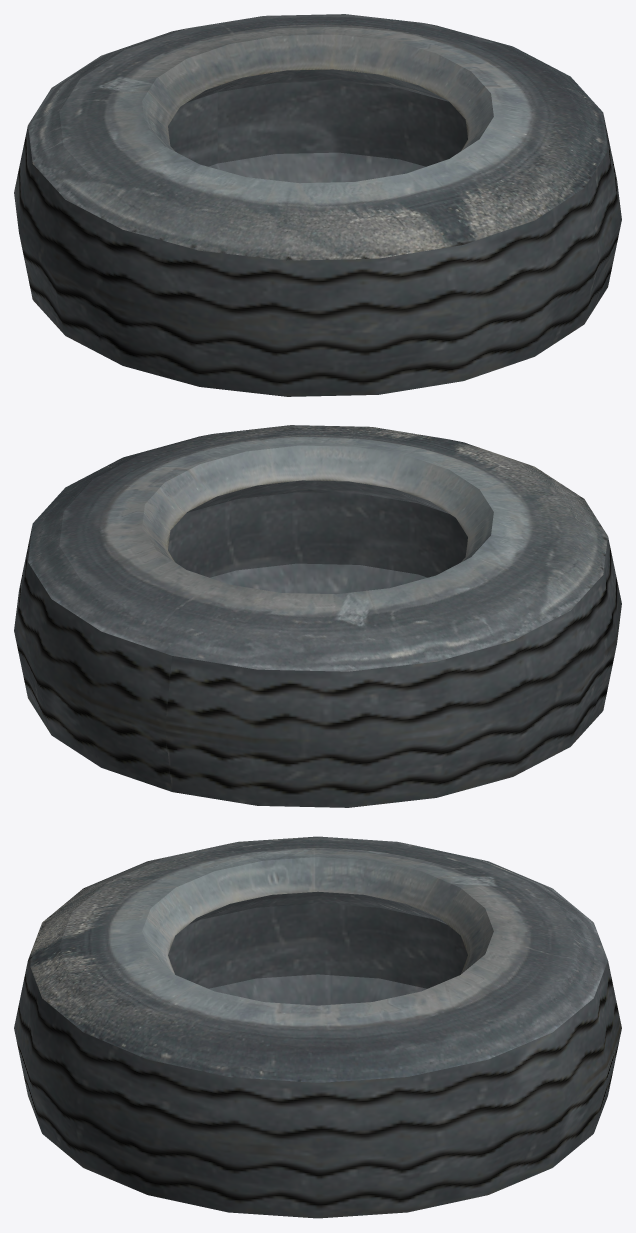
The model's file is tire_norim.fbx.
3 views of the same model, one above another, from view 1: azimuth 30°, elevation 25°; view 2: azimuth 150°, elevation 25°; view 3: azimuth 270°, elevation 25° (orthographic).
Parts seen in each view (by area): view 1: tire_norim1; view 2: tire_norim1; view 3: tire_norim1.
Part boxes in pixels (bbox=[...]): tire_norim1: bbox=[14, 14, 621, 396]; tire_norim1: bbox=[14, 425, 621, 807]; tire_norim1: bbox=[14, 836, 621, 1218].
Bounding box in the file's own units: 0.9748 × 0.3391 × 0.9748.
